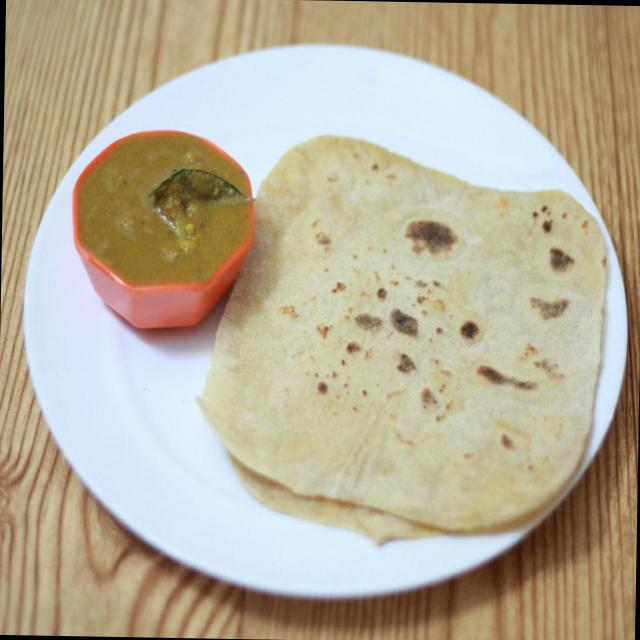roti: (199, 139, 611, 547)
